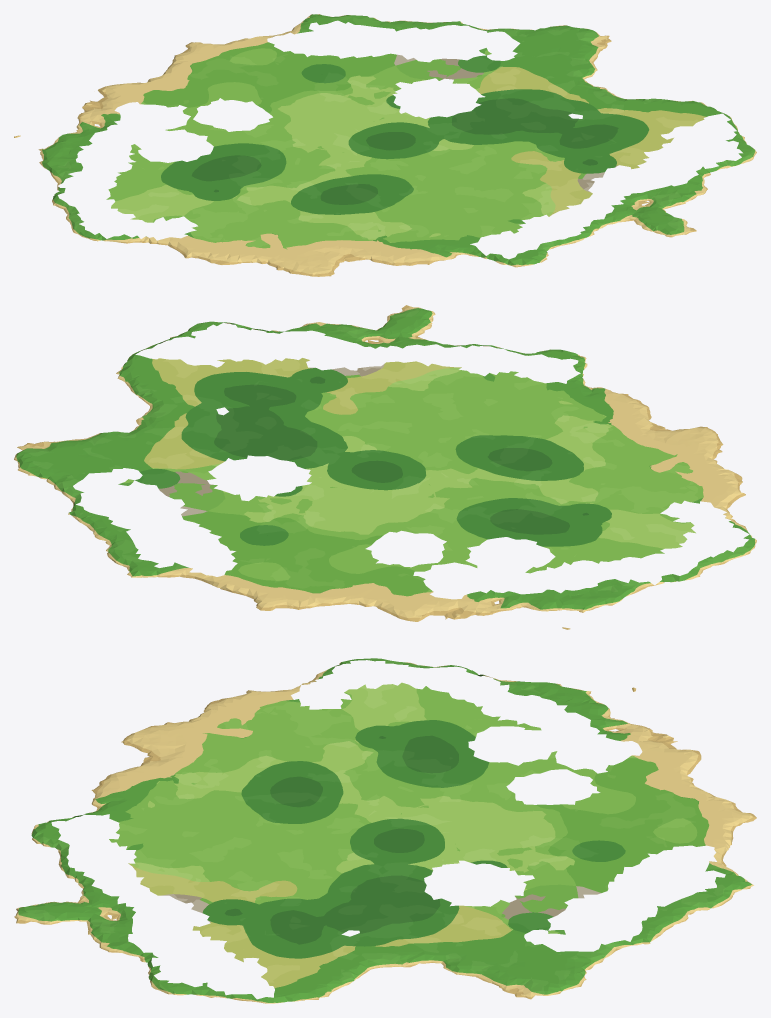
The model's file is Isl-flat4-Ground.fbx.
The picture shows the model from 3 angles, top to bottom: view 1: azimuth 30°, elevation 25°; view 2: azimuth 150°, elevation 25°; view 3: azimuth 270°, elevation 25°; orthographic projection. The views are drawn at different scales.
Parts seen in each view (by area): view 1: Isl-flat4-Ground-c11, Isl-flat4-Ground-c21, Isl-flat4-Ground-c12, Isl-flat4-Ground-c22; view 2: Isl-flat4-Ground-c11, Isl-flat4-Ground-c21, Isl-flat4-Ground-c12, Isl-flat4-Ground-c22; view 3: Isl-flat4-Ground-c21, Isl-flat4-Ground-c11, Isl-flat4-Ground-c12, Isl-flat4-Ground-c22.
Boxes of the visible parts, bbox=[...] form: Isl-flat4-Ground-c11: bbox=[69, 144, 536, 276]; Isl-flat4-Ground-c21: bbox=[377, 89, 756, 263]; Isl-flat4-Ground-c12: bbox=[14, 41, 376, 222]; Isl-flat4-Ground-c22: bbox=[235, 14, 611, 144]; Isl-flat4-Ground-c11: bbox=[394, 350, 756, 560]; Isl-flat4-Ground-c21: bbox=[116, 305, 564, 475]; Isl-flat4-Ground-c12: bbox=[237, 475, 729, 629]; Isl-flat4-Ground-c22: bbox=[14, 416, 393, 593]; Isl-flat4-Ground-c21: bbox=[14, 831, 402, 1003]; Isl-flat4-Ground-c11: bbox=[31, 658, 402, 835]; Isl-flat4-Ground-c12: bbox=[398, 662, 756, 835]; Isl-flat4-Ground-c22: bbox=[398, 831, 753, 999].
Bounding box in the file's own units: 98.53 × 0.4893 × 89.55.
